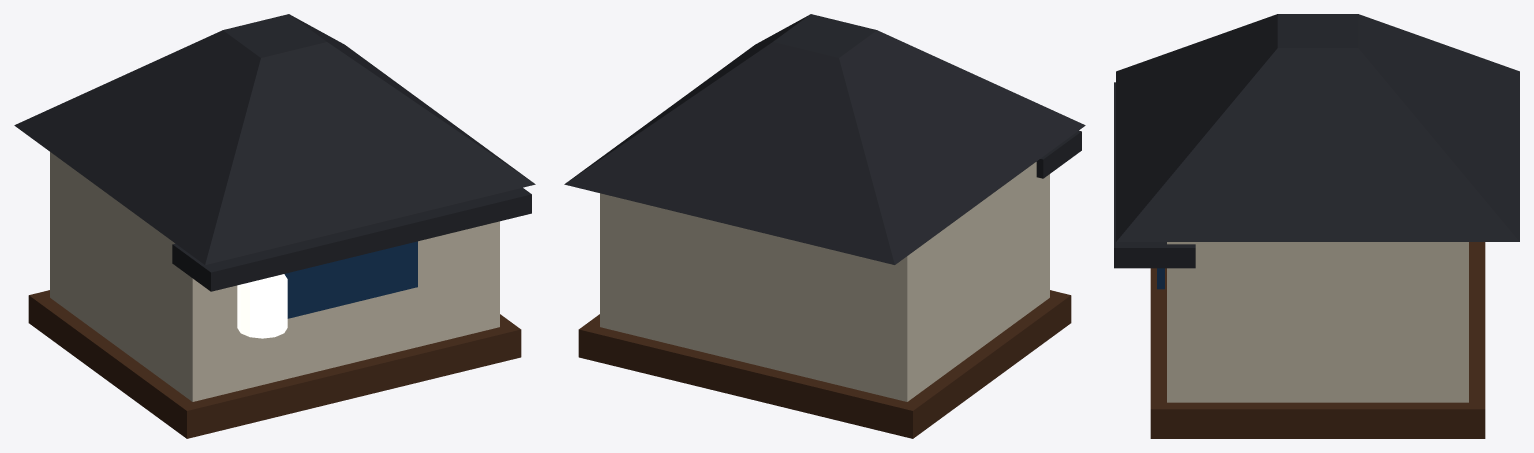
File: geidontei.glb
The picture shows the model from 3 angles, left to right: view 1: azimuth 30°, elevation 25°; view 2: azimuth 150°, elevation 25°; view 3: azimuth 270°, elevation 25°; orthographic projection. The views are drawn at different scales.
Visible parts, largest first — view 1: geidontei_Opaque, geidontei_Emissive; view 2: geidontei_Opaque; view 3: geidontei_Opaque.
Part boxes in pixels (x1,y1,x2,y2): geidontei_Opaque: (14, 14, 535, 438); geidontei_Emissive: (237, 274, 287, 338); geidontei_Opaque: (564, 14, 1085, 438); geidontei_Opaque: (1114, 14, 1519, 438).
Size of the model in its own units: 10 by 8.7 by 9.95.
